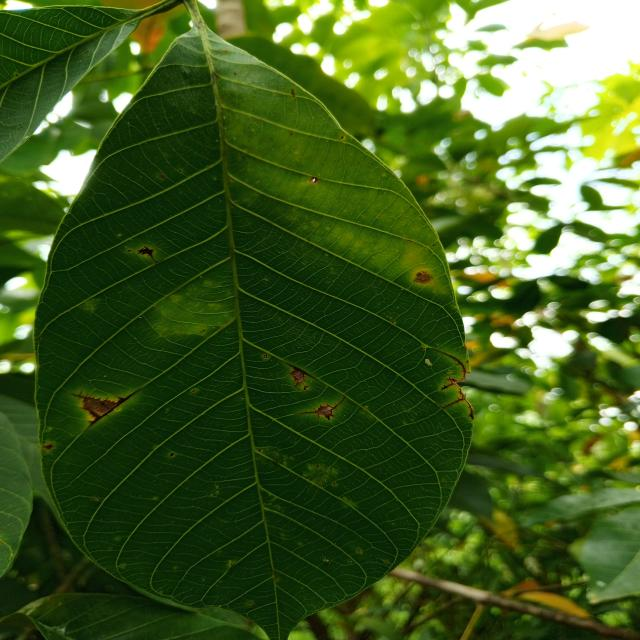Colletotrichum: (310, 177, 318, 183), (263, 355, 268, 358), (192, 389, 196, 392), (126, 250, 132, 252), (248, 602, 252, 604)
Corynespora: (71, 388, 141, 428), (432, 348, 470, 381), (297, 396, 346, 421), (285, 362, 319, 388), (137, 246, 163, 264), (439, 398, 466, 409), (463, 399, 475, 419), (442, 377, 458, 390)
